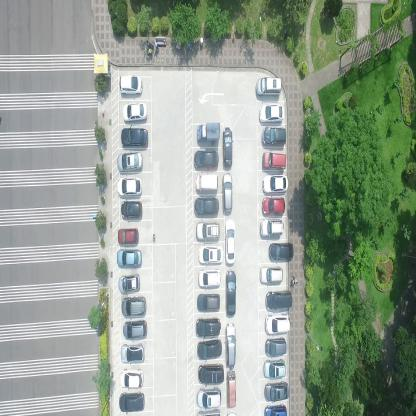car: (196, 385, 222, 410), (197, 120, 221, 145), (120, 341, 145, 365), (224, 218, 237, 264), (194, 220, 220, 243), (120, 297, 146, 320), (258, 102, 285, 124), (265, 289, 292, 311), (196, 338, 223, 360), (121, 126, 148, 148), (117, 151, 144, 173), (118, 390, 145, 412), (256, 76, 282, 98), (261, 126, 287, 148), (264, 380, 290, 402), (195, 316, 221, 338), (116, 176, 142, 198), (197, 364, 225, 384), (225, 321, 236, 371), (196, 268, 221, 290), (119, 367, 144, 389), (262, 174, 288, 195), (197, 245, 223, 266), (269, 241, 293, 263), (197, 292, 221, 314), (194, 173, 219, 194), (265, 314, 291, 334), (122, 102, 148, 122), (116, 249, 142, 269), (193, 150, 220, 169), (120, 74, 143, 96), (261, 197, 286, 217), (194, 197, 219, 217), (226, 269, 236, 318), (263, 150, 286, 171), (118, 274, 141, 295), (222, 172, 233, 215), (223, 126, 234, 168), (264, 359, 287, 379), (259, 265, 283, 284), (226, 370, 237, 410), (123, 321, 147, 339), (121, 200, 143, 219), (117, 227, 139, 246), (260, 219, 283, 237), (264, 338, 286, 356), (264, 403, 288, 415)
